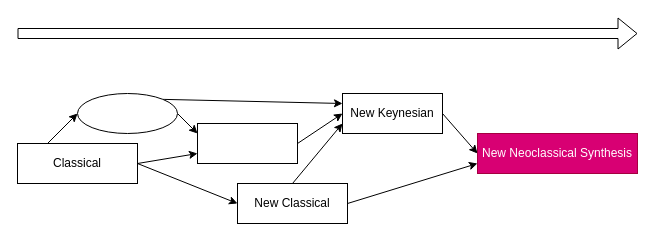
This 655x241 diagram has some shape labels left out. The box of each missing label's shape, as (x1, y1, x2, y2) in pixels:
Keynes: (76, 92, 178, 134)
Neoclassical Synthesis: (196, 122, 298, 164)
